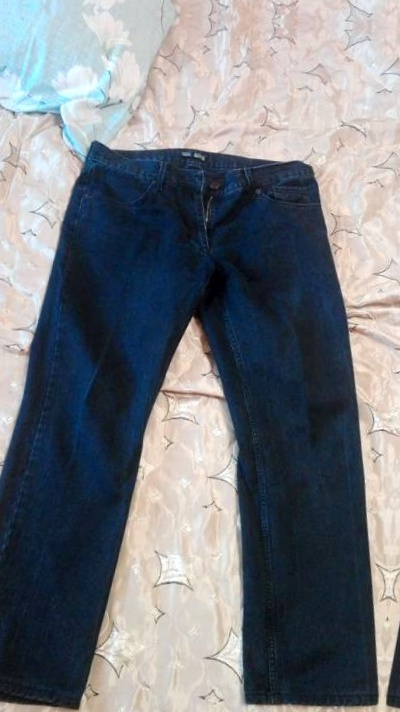Pants: (0, 122, 400, 712), (396, 148, 400, 712)
